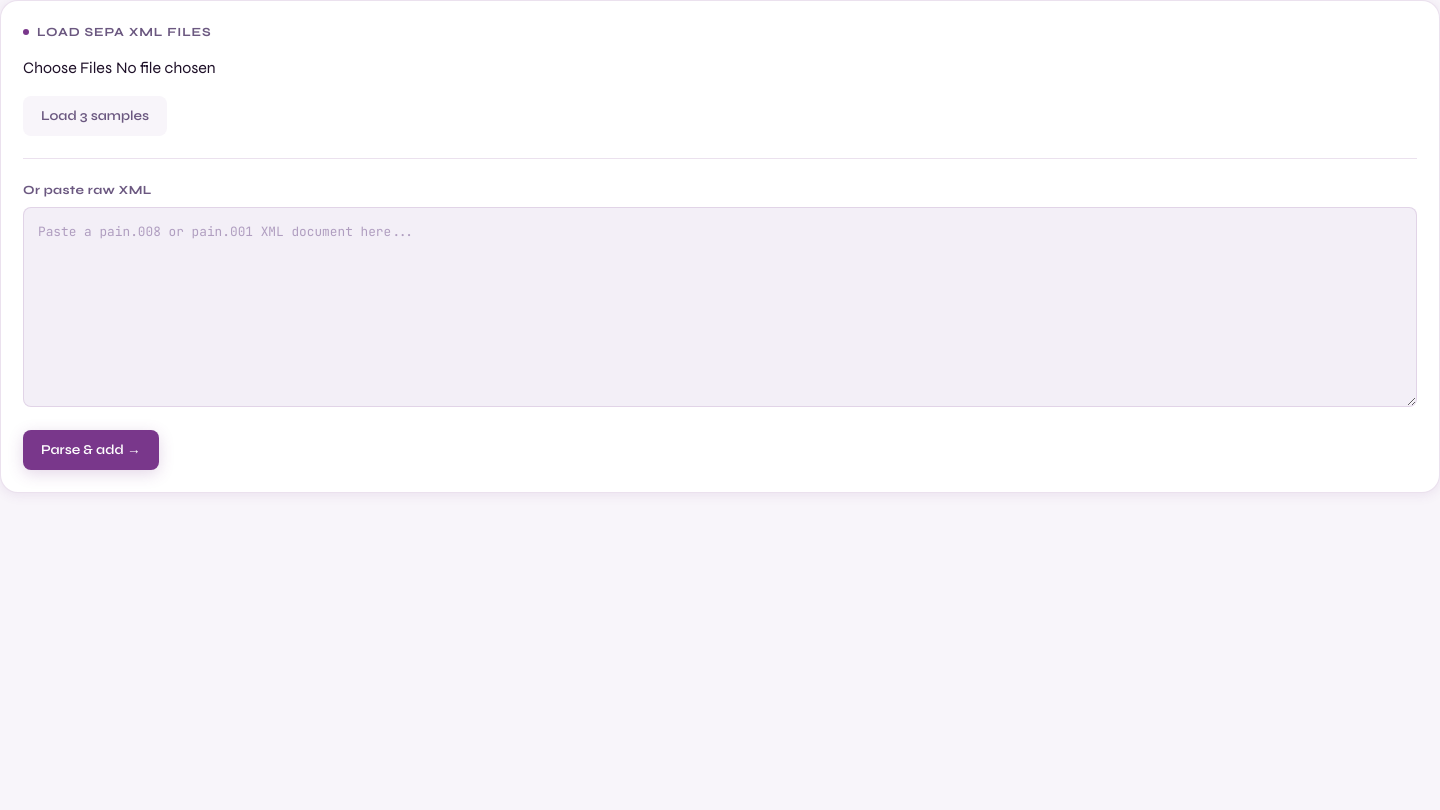
Test: SepaFileVisualizer › parses a pasted pain.008 Direct Debit file and shows DD-specific columns
The image size is (1440, 810).
Type "<?xml version=\"1.0\" encoding=\"utf-8\"?><Document xmlns=\"urn:iso:std:iso:20022:tech:xsd:pain.008.001.08\"><CstmrDrctDbtInitn><GrpHdr><MsgId>MSG-DD-1</MsgId><CreDtTm>2026-07-23T10:00:00</CreDtTm><NbOfTxs>" into the text box with placeholder "Paste a pain.008 or pain.001 XML document here...".
click(720, 307); type("<?xml version=\"1.0\" encoding=\"utf-8\"?><Document xmlns=\"urn:iso:std:iso:20022:tech:xsd:pain.008.001.08\"><CstmrDrctDbtInitn><GrpHdr><MsgId>MSG-DD-1</MsgId><CreDtTm>2026-07-23T10:00:00</CreDtTm><NbOfTxs>")  # box [23,207,1417,407]
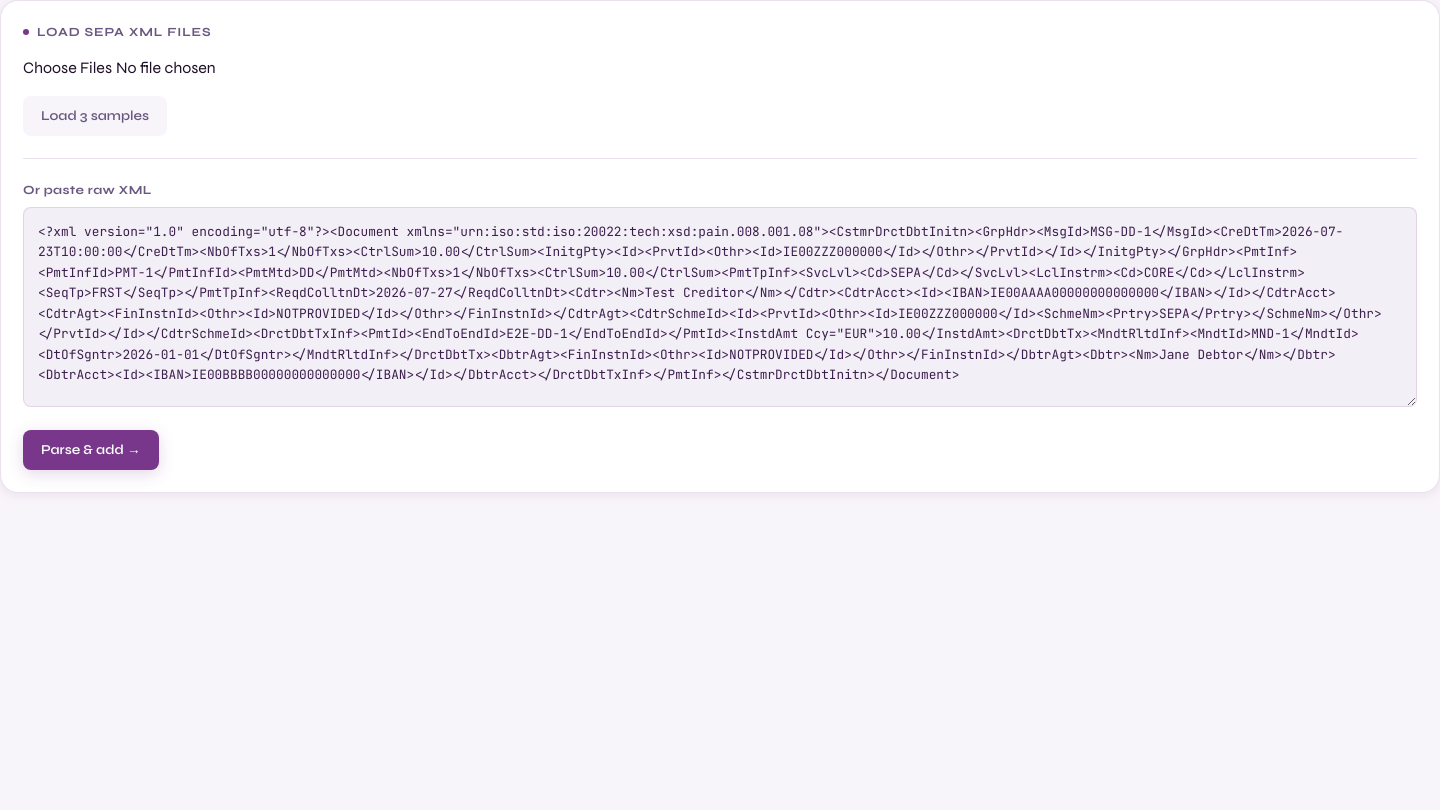
Click the button "Parse & add →".
click(91, 450)  # box [23,430,158,470]
(page scrolled)
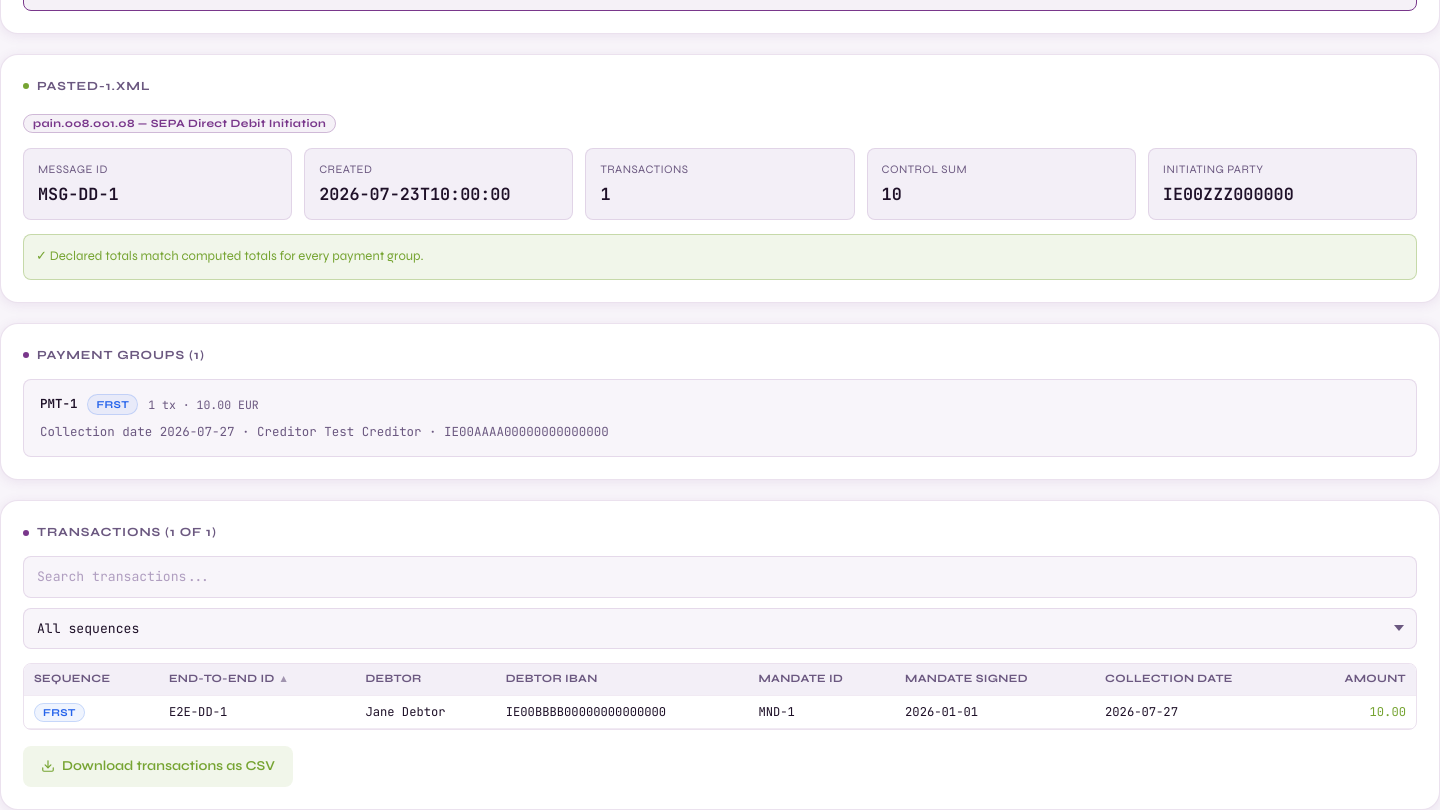
Expected: the text "MSG-DD-1" is shown, [38,183,119,205]
Expected: the text "pain.008.001.08 — SEPA Direct Debit Initiation" is shown, [23,114,336,133]
Expected: the column heading "Mandate ID" is shown, [748,664,895,696]
